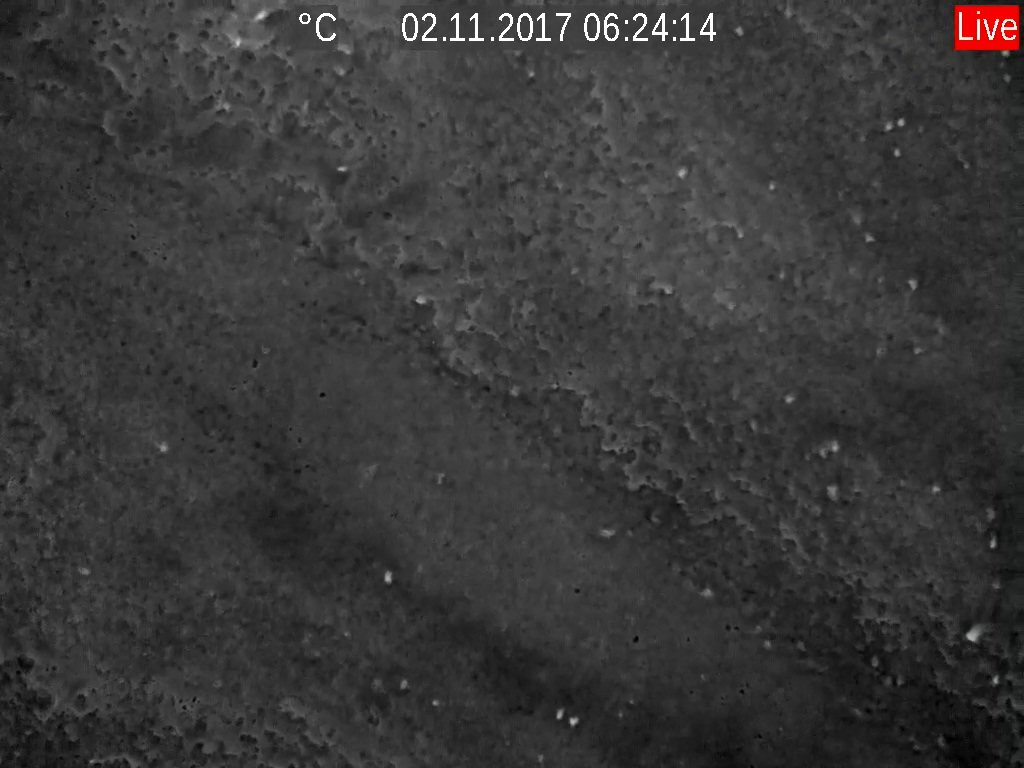warren: (963, 612, 991, 647)
